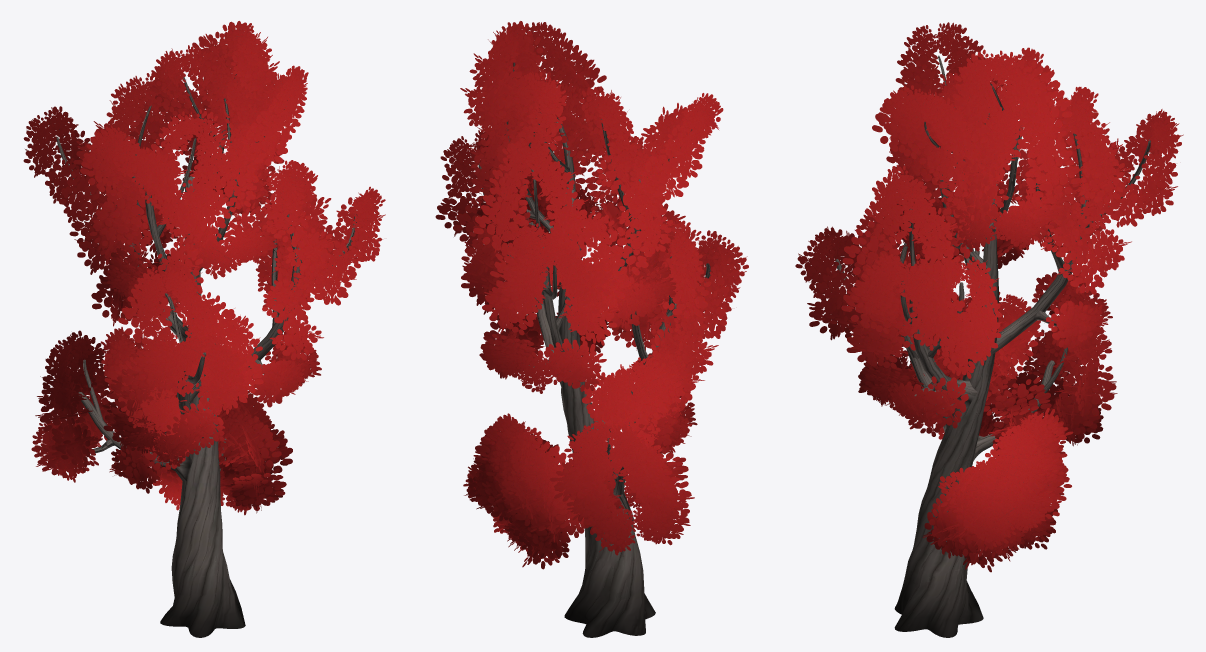
The model's file is sn_twisted_tree_4.glb.
3 renders of one model, left to right at view 1: azimuth 30°, elevation 25°; view 2: azimuth 150°, elevation 25°; view 3: azimuth 270°, elevation 25°, orthographic. The views are drawn at different scales.
Visible parts, largest first — view 1: TwistedTree_4; view 2: TwistedTree_4; view 3: TwistedTree_4.
Boxes of the visible parts, bbox=[...] form: TwistedTree_4: bbox=[23, 21, 385, 637]; TwistedTree_4: bbox=[435, 21, 748, 637]; TwistedTree_4: bbox=[795, 22, 1183, 637].
Bounding box in the file's own units: 10.38 × 18.74 × 11.29.
Materials: 2 (2 with a texture image).
